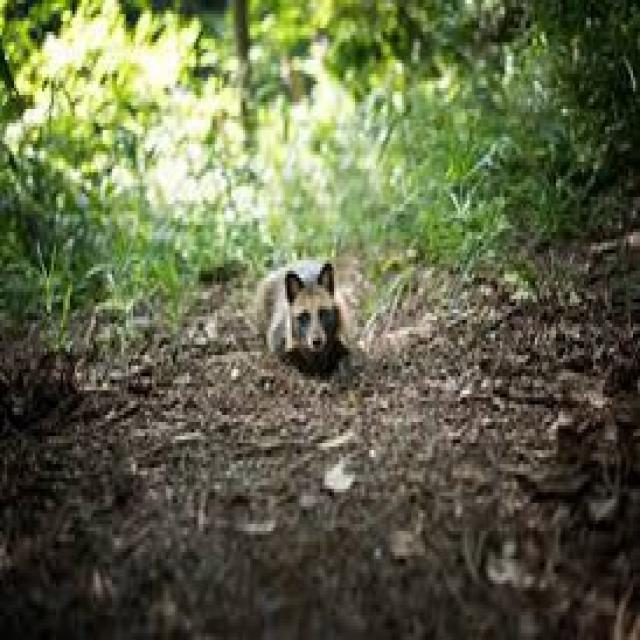racoon: (246, 257, 354, 376)
